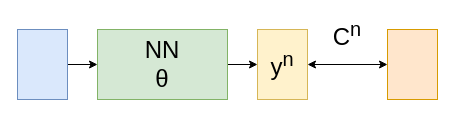
The diagram is 455 pixels wide and 117 high, and some of its shapes have lost their labels. Here are the shapes that lost their labels. From the top down, the centre of each, then its label:
(x=42, y=64): x n
(x=412, y=64): ŷ n
